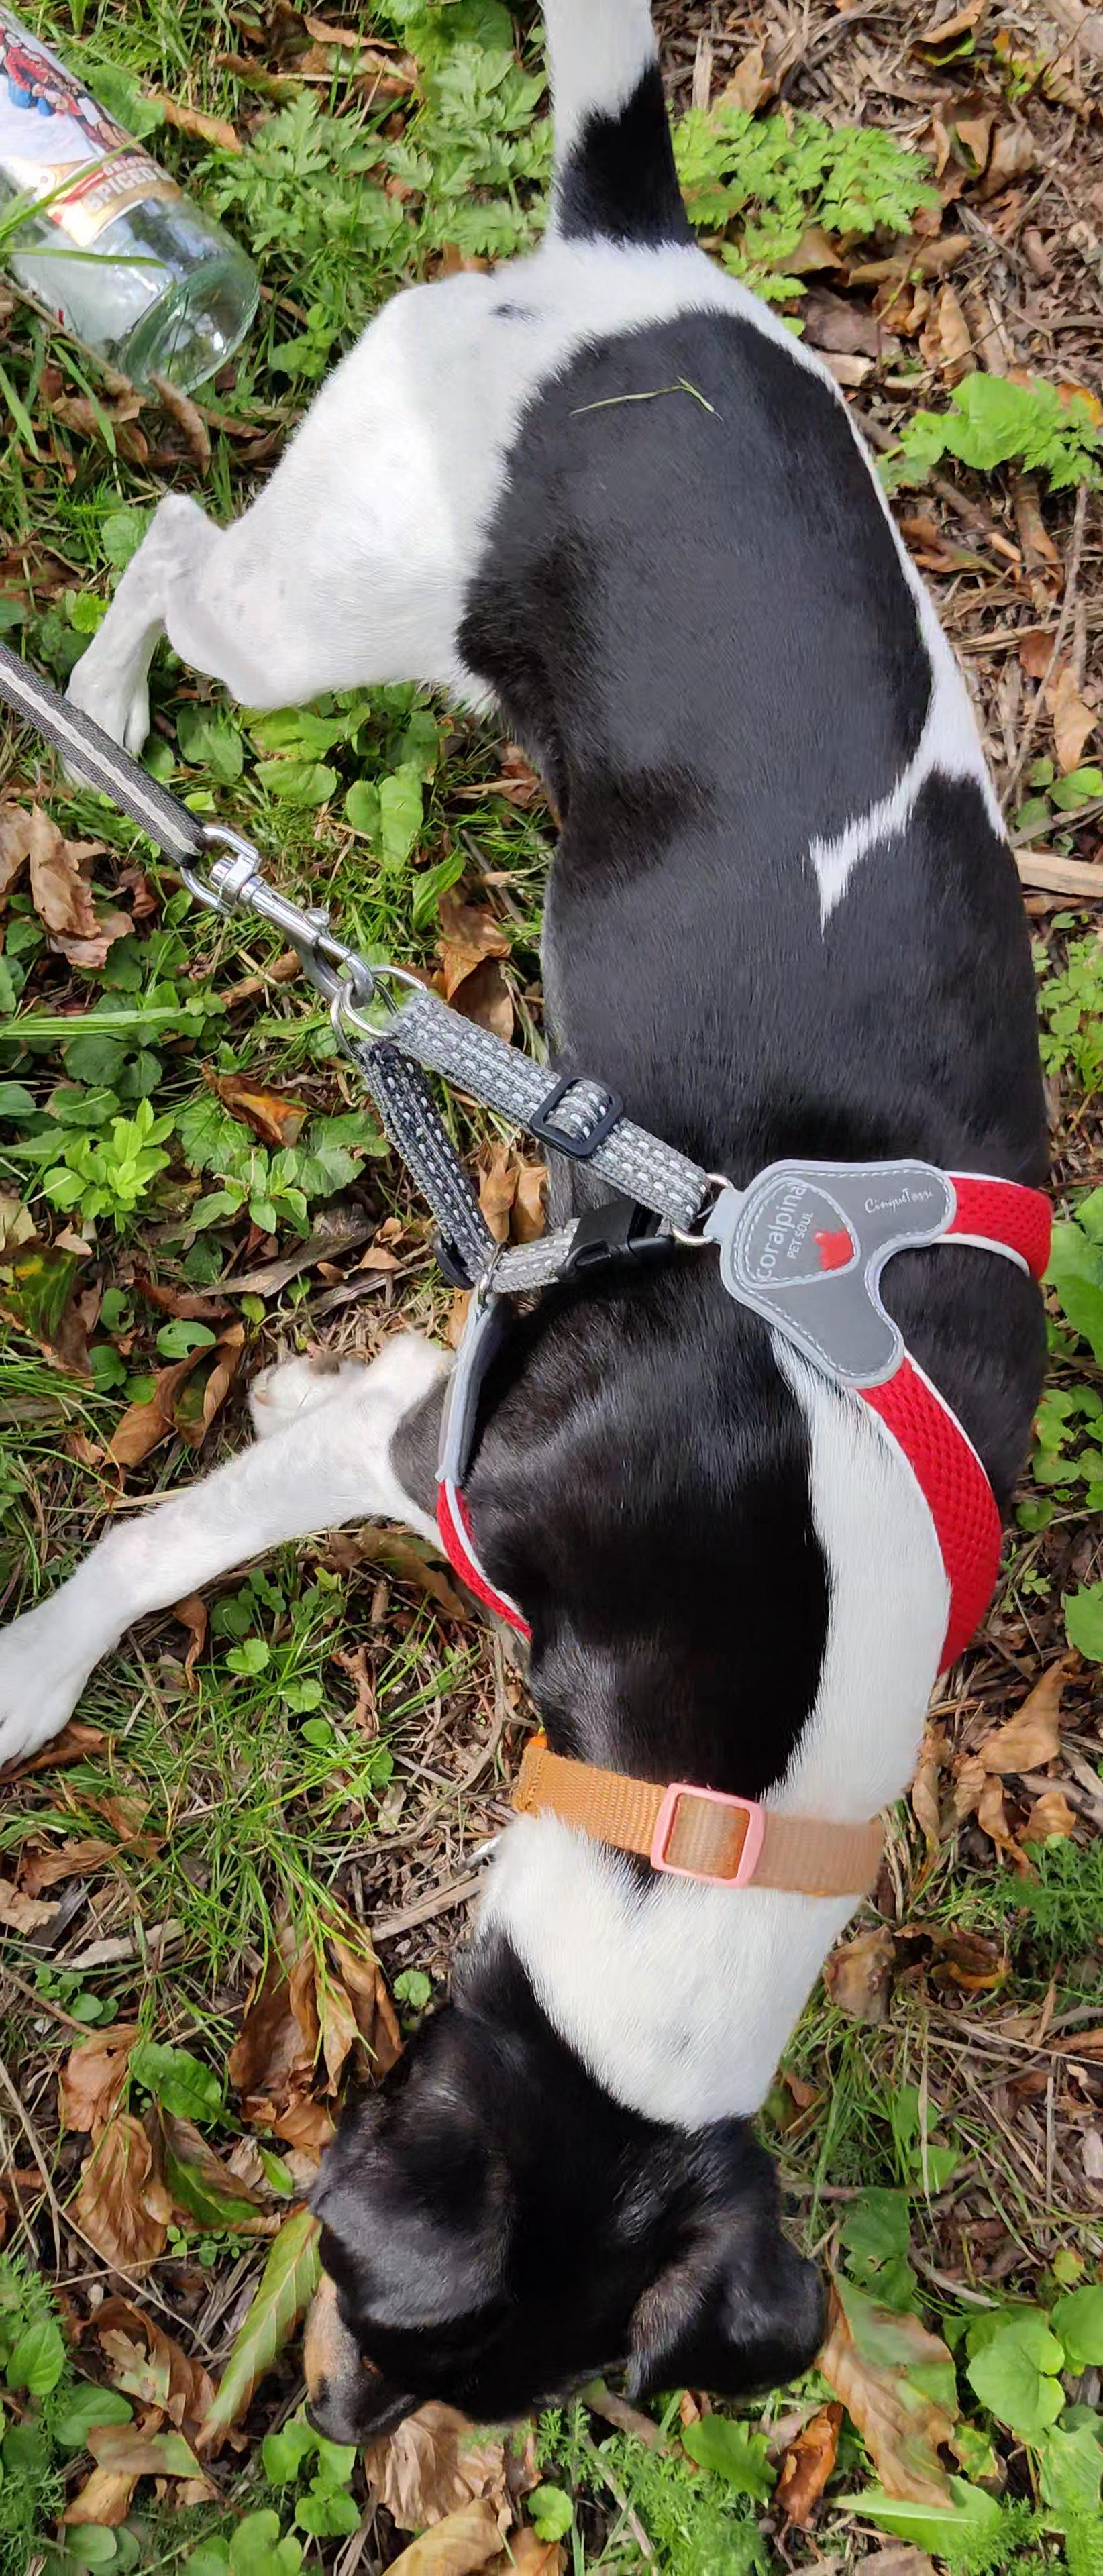Dog: (0, 0, 1054, 2451)
